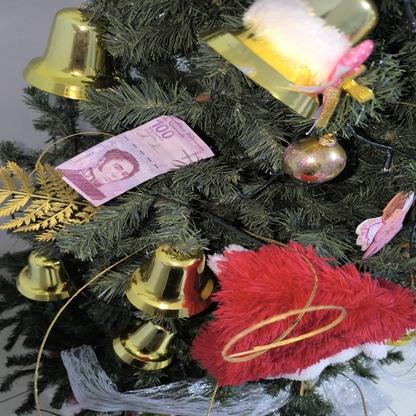one_hundred-front-vef: (52, 113, 216, 208)
